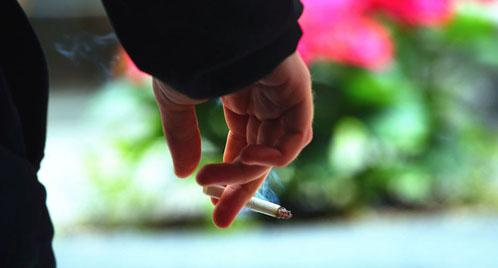Cigarette: (204, 184, 292, 220)
